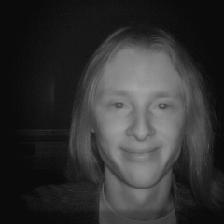happy: (63, 22, 218, 199)
